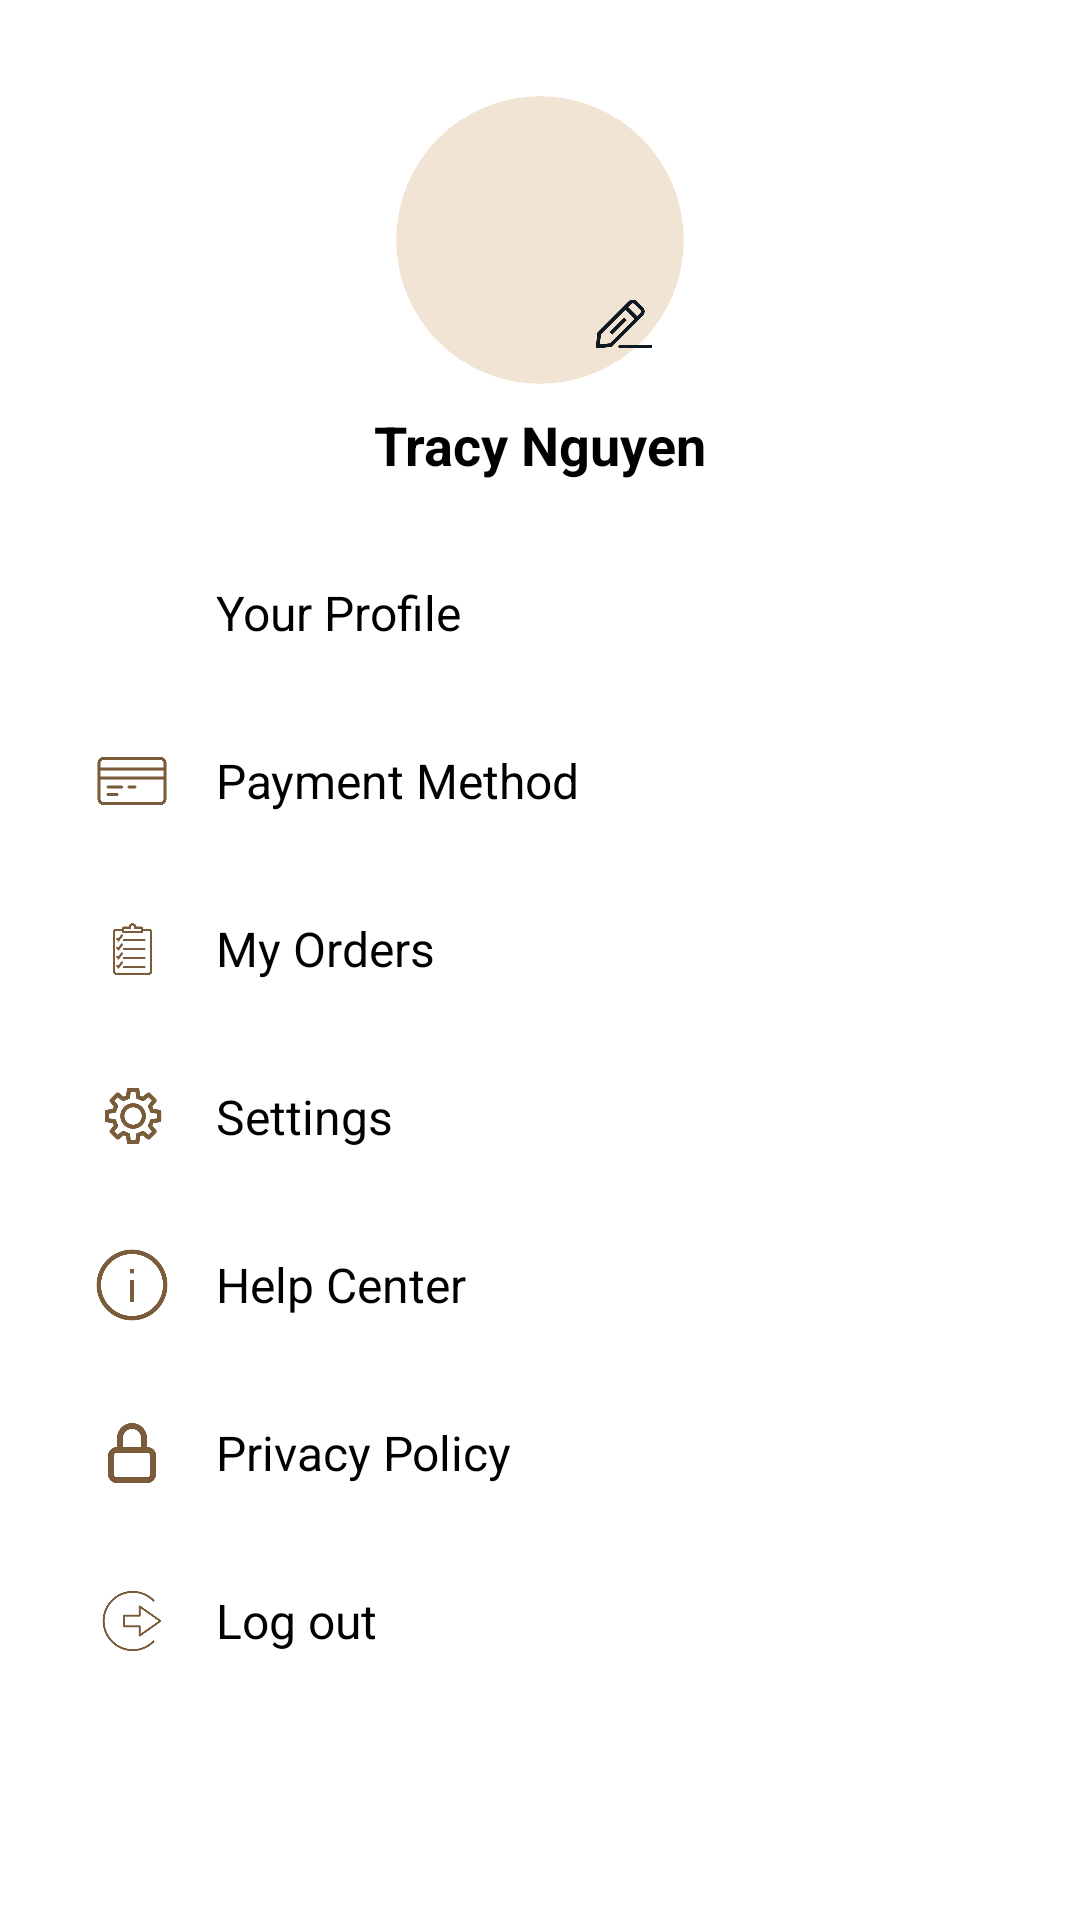

Icon click points for this 1080px×1920px phone screenshot, format (x=x, y=y):
Edit: (x=624, y=324)
pay: (x=132, y=781)
